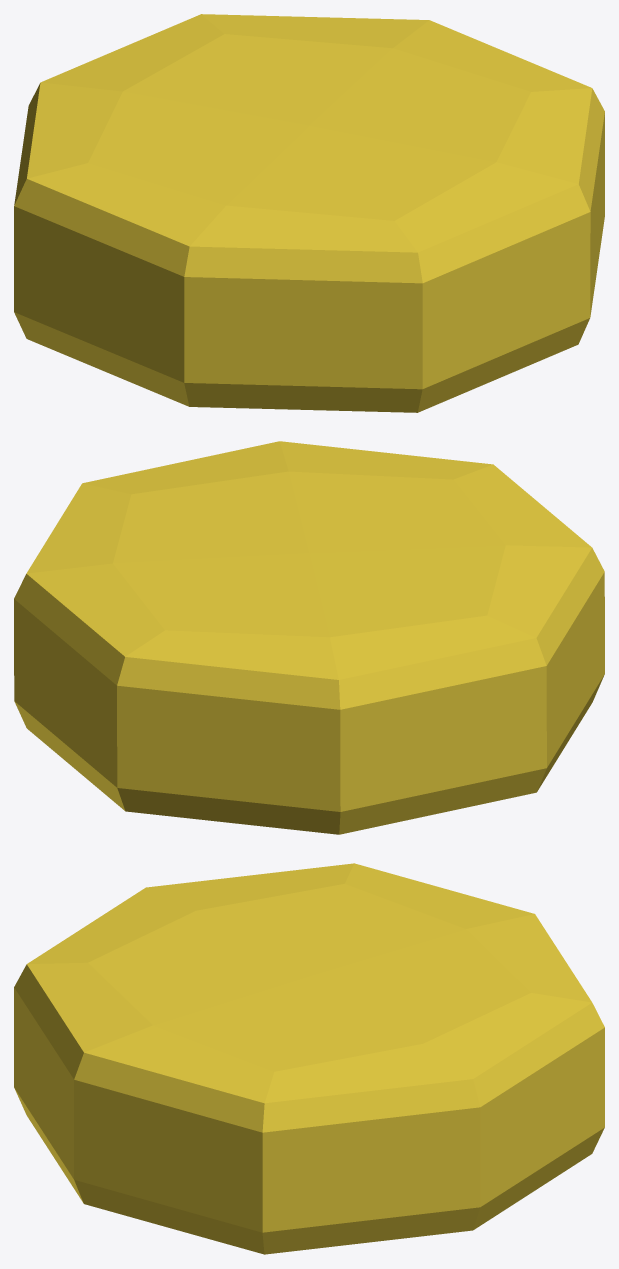
The model's file is Mesh_GoldCoin.glb.
3 views of the same model, one above another, from view 1: azimuth 30°, elevation 25°; view 2: azimuth 150°, elevation 25°; view 3: azimuth 270°, elevation 25° (orthographic). The views are drawn at different scales.
Visible parts, largest first — view 1: Cube.031; view 2: Cube.031; view 3: Cube.031.
Boxes of the visible parts, x1,y1,x2,y2 form: Cube.031: (14, 14, 604, 412); Cube.031: (14, 441, 604, 834); Cube.031: (14, 863, 604, 1254).
Size of the model in its own units: 1.11 by 0.3467 by 1.11.
